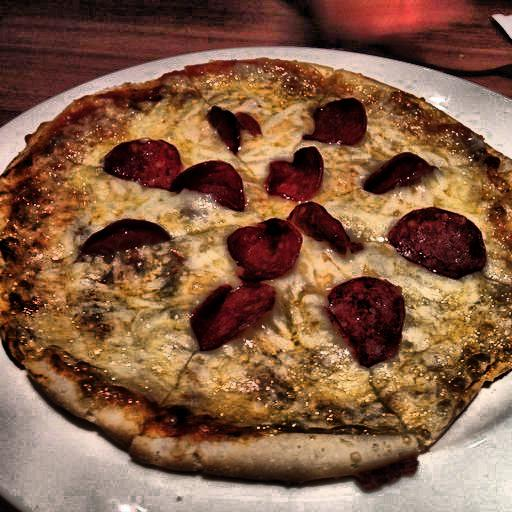pizza: (7, 70, 512, 479)
